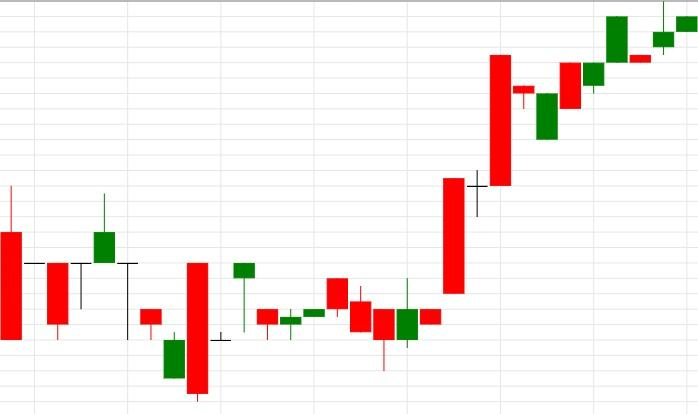bullish_engulfing_rise: (94, 193, 209, 402)
hanging_man_fall: (187, 262, 256, 402)
